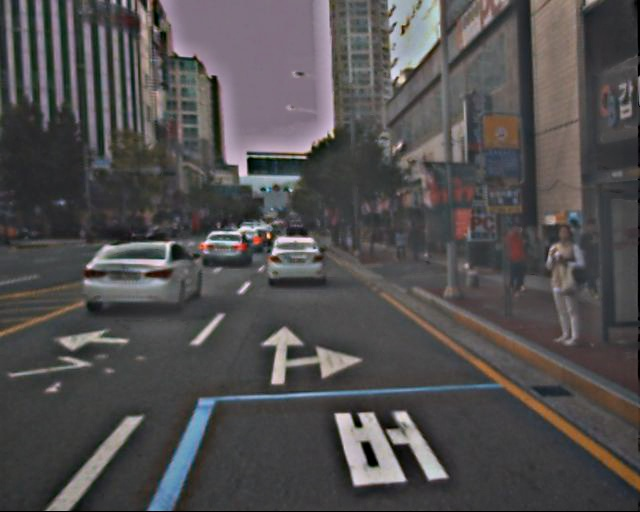person: (538, 225, 588, 347), (576, 219, 610, 302), (500, 224, 531, 300), (408, 221, 424, 260), (393, 227, 408, 263)
